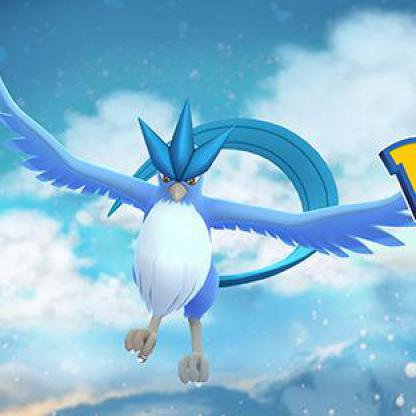Articuno: (1, 9, 416, 416)
